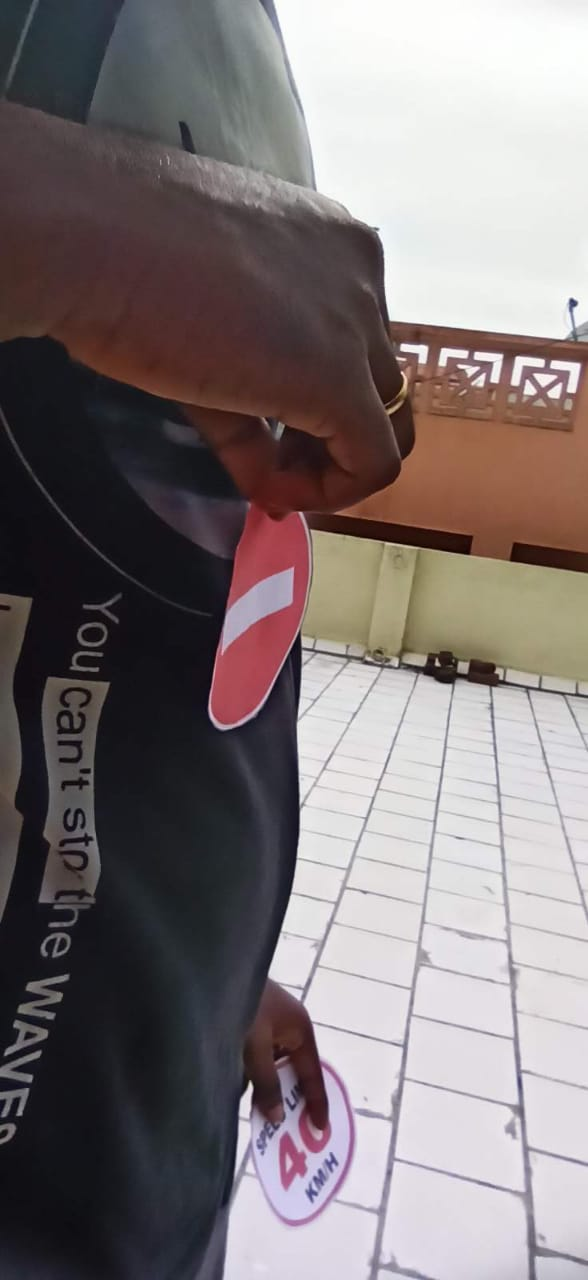NO ENTRY: (204, 477, 325, 742)
SPEED LIMIT (40 KM/H): (235, 1042, 379, 1233)
